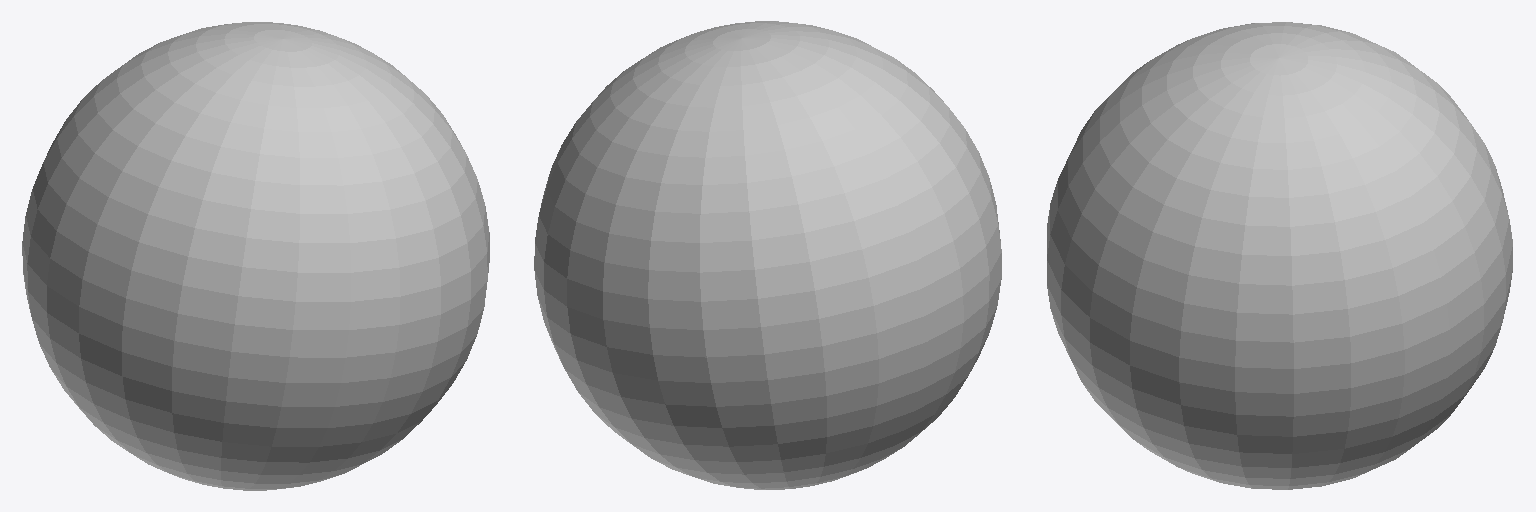
Rendered from CubeWITHAnim0016.obj.
3 views of the same model, side by side, from view 1: azimuth 30°, elevation 25°; view 2: azimuth 150°, elevation 25°; view 3: azimuth 270°, elevation 25° (orthographic).
Parts seen in each view (by area): view 1: NEWJumpBall_Sphere; view 2: NEWJumpBall_Sphere; view 3: NEWJumpBall_Sphere.
Boxes of the visible parts, <box> form: NEWJumpBall_Sphere: <box>22,22,489,490</box>; NEWJumpBall_Sphere: <box>534,21,1001,489</box>; NEWJumpBall_Sphere: <box>1047,22,1512,489</box>.
Bounding box in the file's own units: 1.99 × 2 × 1.99.